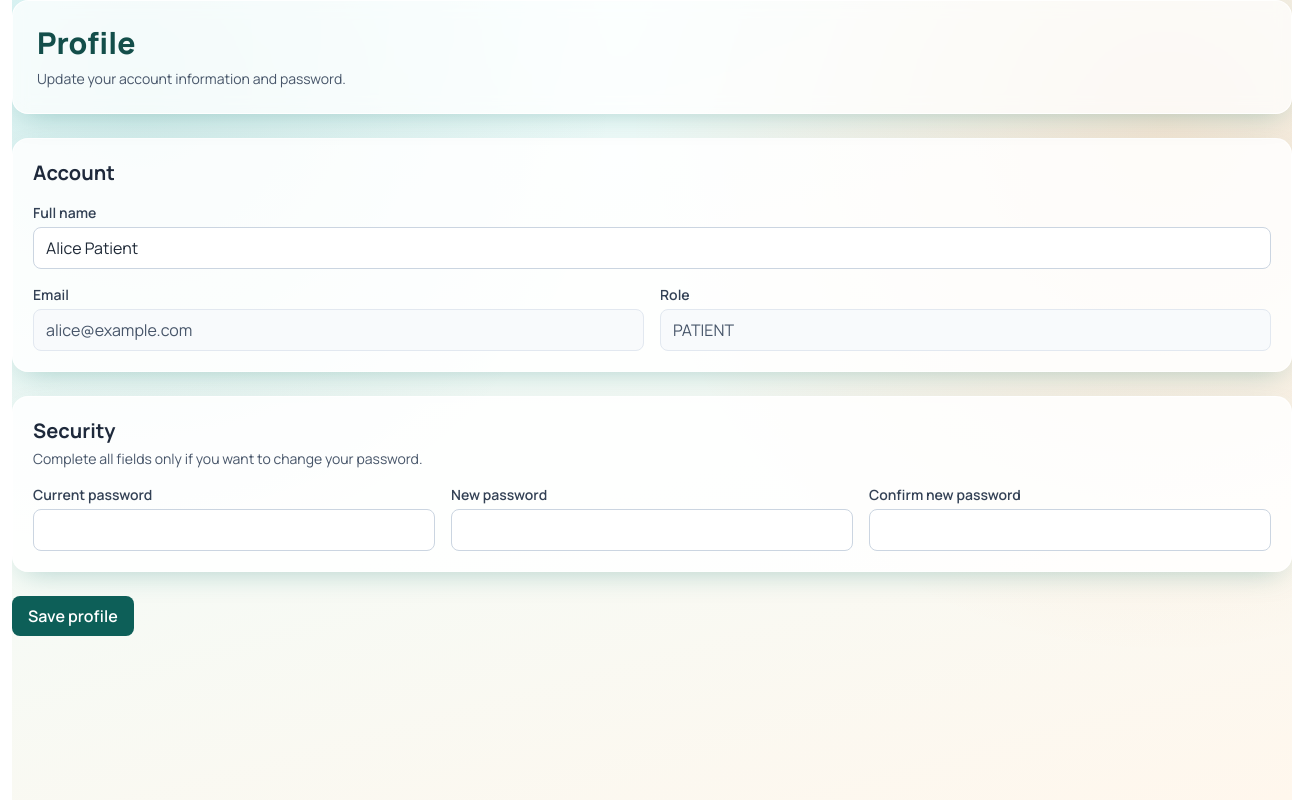
Test: ProfilePage › shows validation error when password confirmation does not match
The width and height of the screenshot is (1292, 800).
Type "OldPassword123" into the password field labelled "Current password" at (234, 530), box 33,509 -> 435,551
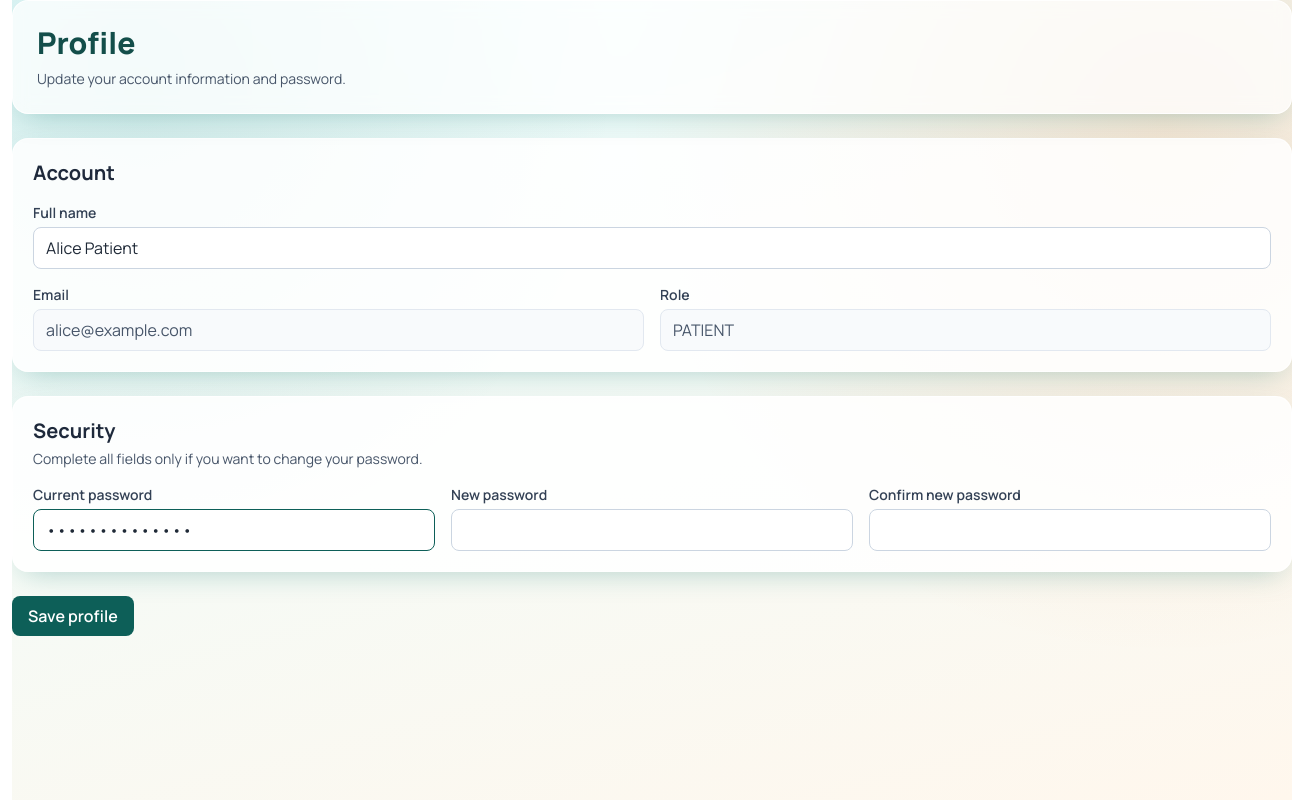
Type "NewPassword123" into the password field labelled "New password" at (652, 530), box 451,509 -> 853,551
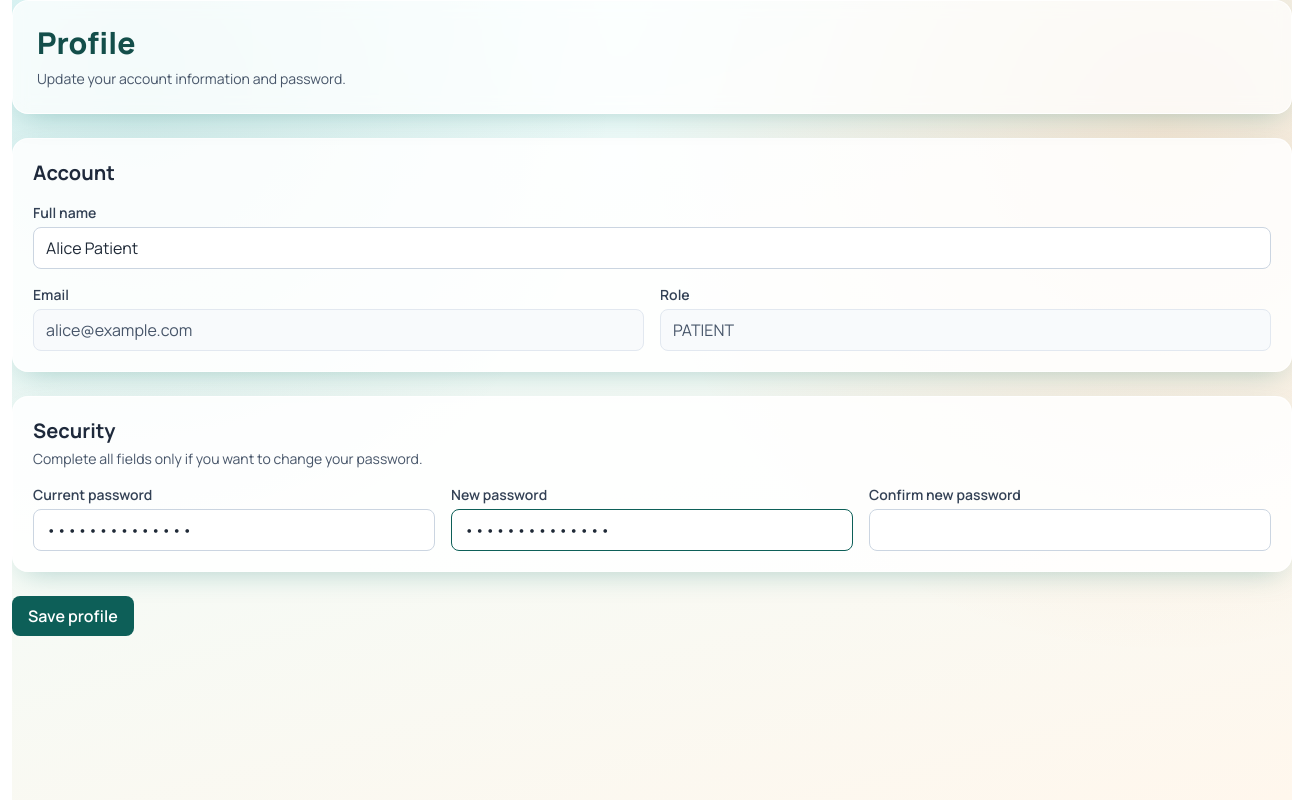
Type "MismatchPassword" into the password field labelled "Confirm new password" at (1070, 530), box 869,509 -> 1271,551
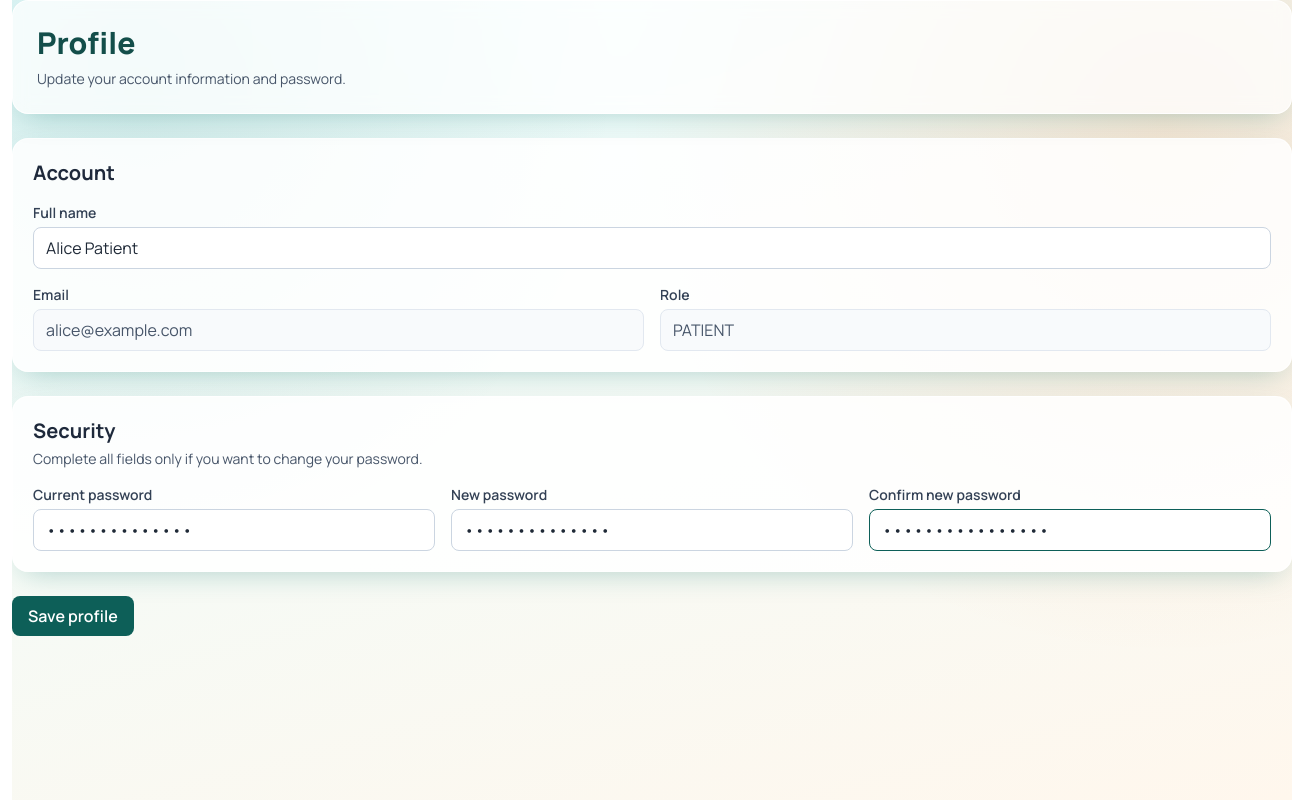
Click the button "Save profile" at (73, 616), box 12,596 -> 134,636
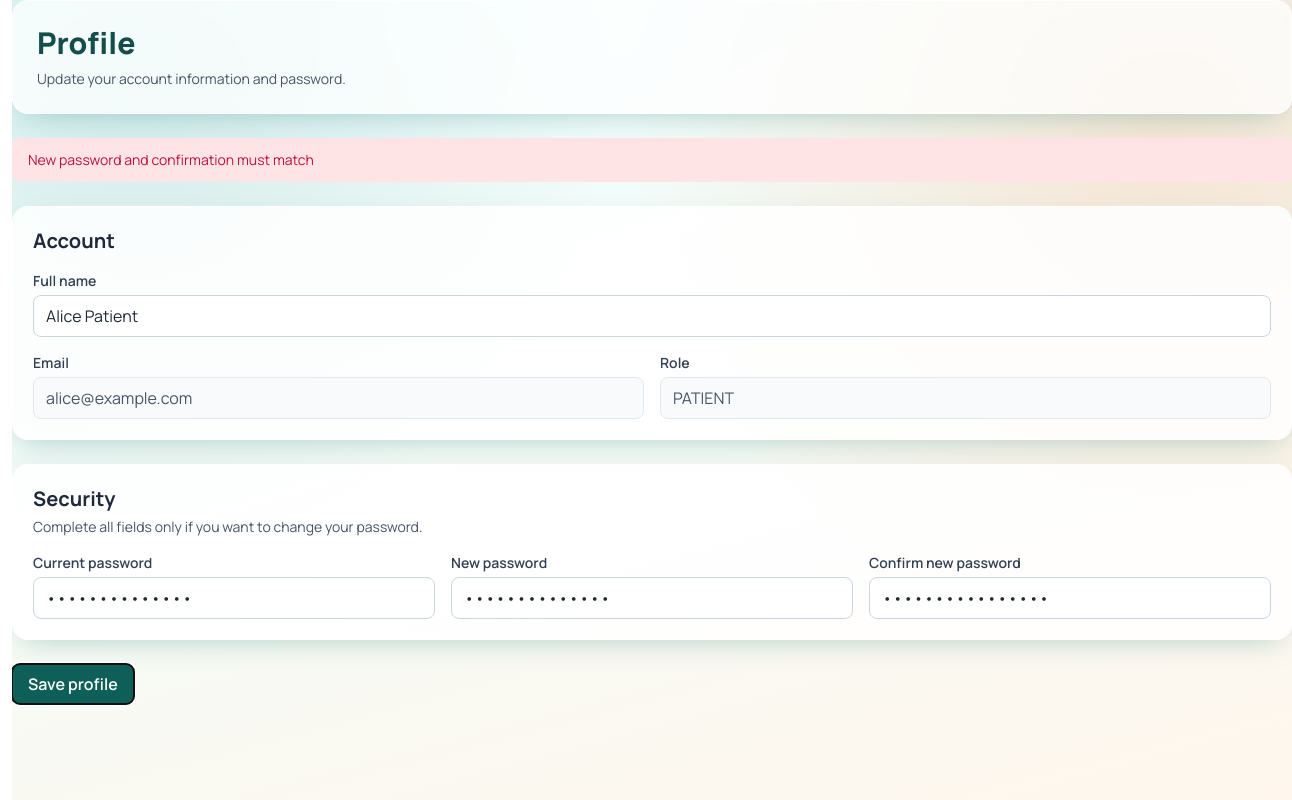
expect the text "New password and confirmation must match" is shown: met, box 12,138 -> 1291,182
